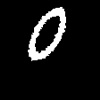chain: (28, 7, 65, 59)
